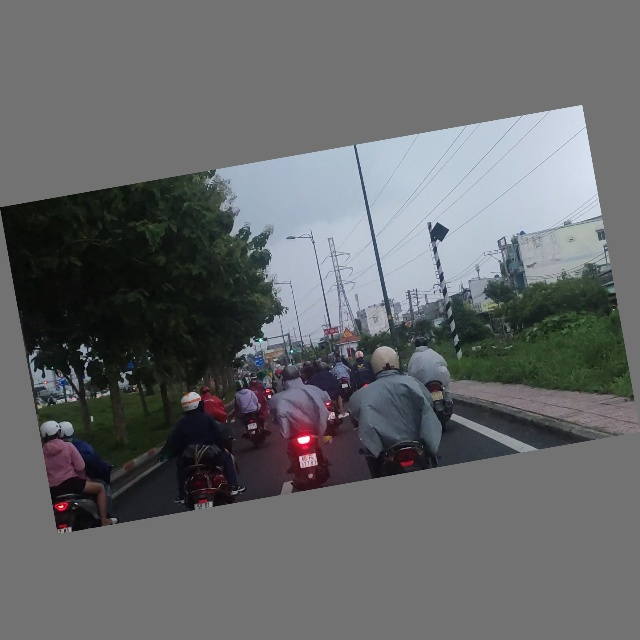W.210: (341, 327, 354, 339)
